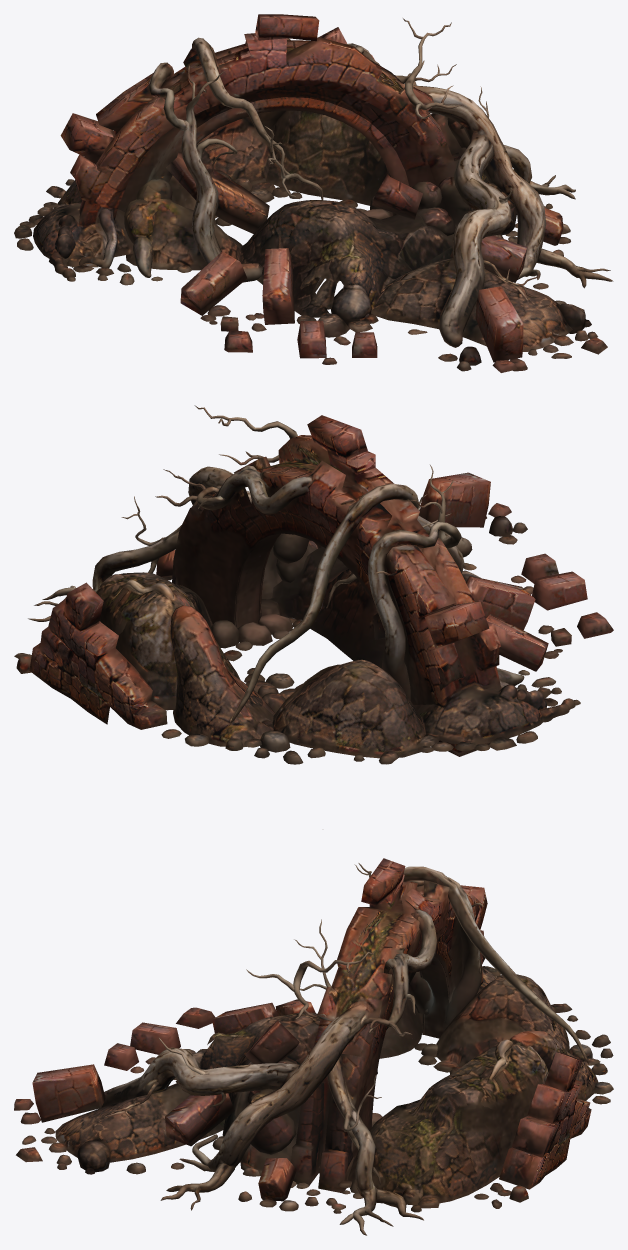
Rendered from act1_kit_v1_root_fall.glb.
3 renders of one model, top to bottom at view 1: azimuth 30°, elevation 25°; view 2: azimuth 150°, elevation 25°; view 3: azimuth 270°, elevation 25°, orthographic. The views are drawn at different scales.
Parts seen in each view (by area): view 1: act1_kit_v1_root_fall; view 2: act1_kit_v1_root_fall; view 3: act1_kit_v1_root_fall.
Boxes of the visible parts, box(x1,y1,x2,y2) form: act1_kit_v1_root_fall: box(14, 14, 613, 372); act1_kit_v1_root_fall: box(14, 405, 613, 764); act1_kit_v1_root_fall: box(14, 858, 613, 1235).
Bounding box in the file's own units: 0.9534 × 0.6645 × 1.
1 material, 1 textured.
